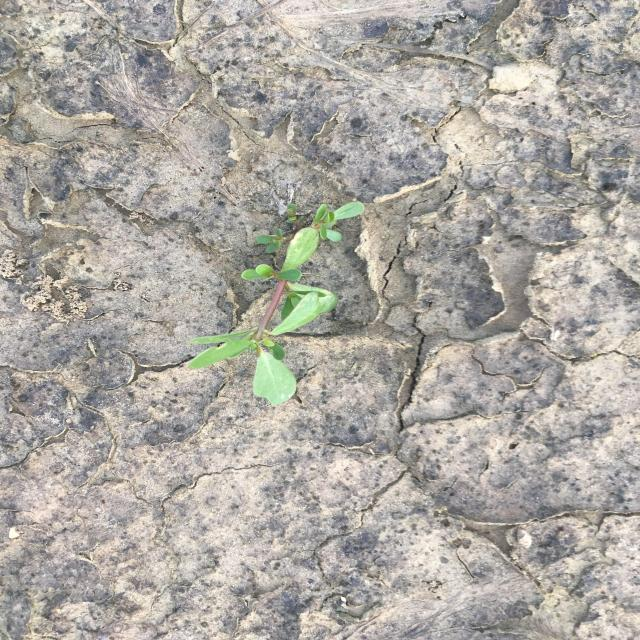Purslane: (184, 200, 368, 410)
